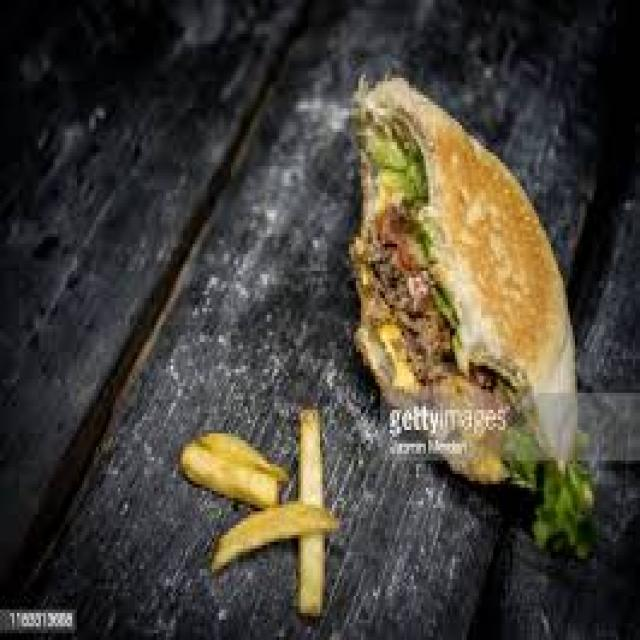organic waste: (349, 68, 594, 555), (207, 501, 334, 576), (178, 426, 284, 514), (291, 403, 330, 613)
